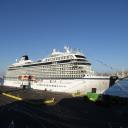cruises: (4, 45, 128, 98)
